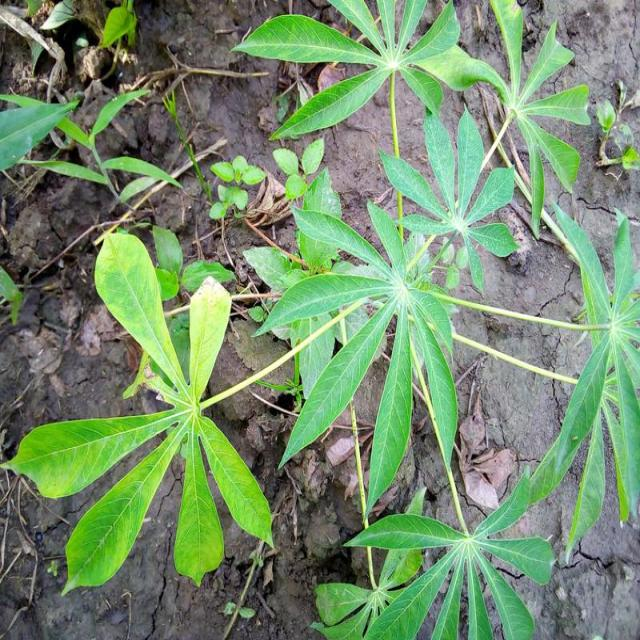cassava leaf: (2, 228, 282, 596)
